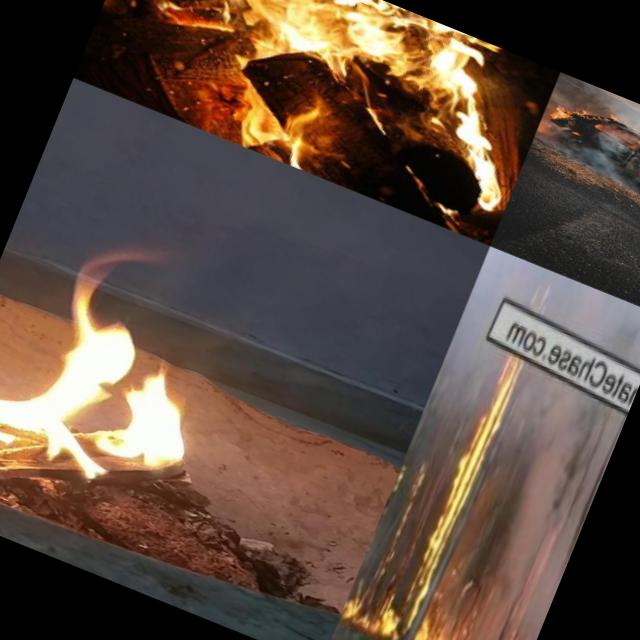fire: (0, 182, 296, 573), (165, 0, 552, 239), (377, 348, 530, 640), (402, 575, 497, 640), (335, 571, 401, 640), (547, 93, 623, 144)
smoke: (449, 420, 616, 640), (444, 377, 578, 597), (552, 72, 640, 150), (615, 120, 640, 164)
